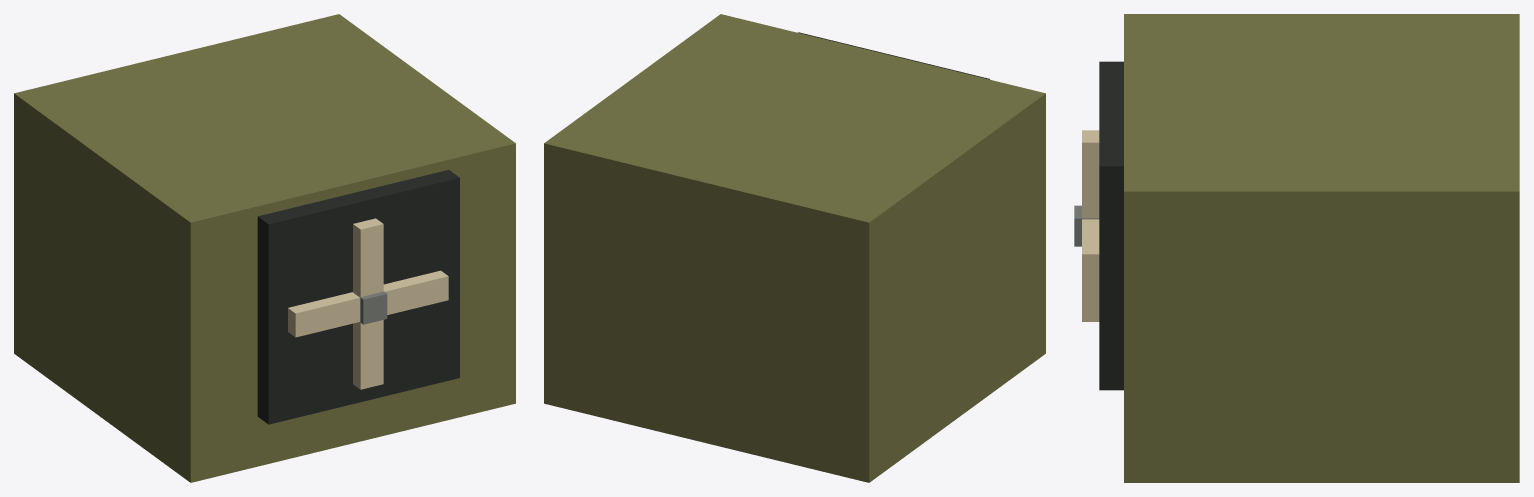
The model's file is generator.gltf.
The picture shows the model from 3 angles, left to right: view 1: azimuth 30°, elevation 25°; view 2: azimuth 150°, elevation 25°; view 3: azimuth 270°, elevation 25°; orthographic projection. The views are drawn at different scales.
Visible parts, largest first — view 1: housing, fanFrame, fanY, fanX, shaftBar; view 2: housing; view 3: housing, fanFrame, fanY, fanX.
Part boxes in pixels (<box>): housing: <box>14,14,515,482</box>; fanFrame: <box>257,170,459,424</box>; fanY: <box>353,218,383,389</box>; fanX: <box>288,270,448,337</box>; shaftBar: <box>352,291,387,324</box>; housing: <box>544,14,1045,482</box>; housing: <box>1124,14,1519,482</box>; fanFrame: <box>1099,61,1123,390</box>; fanY: <box>1082,130,1099,321</box>; fanX: <box>1082,219,1099,281</box>.
Bounding box in the file's own units: 1.7 × 1.3 × 1.8.
